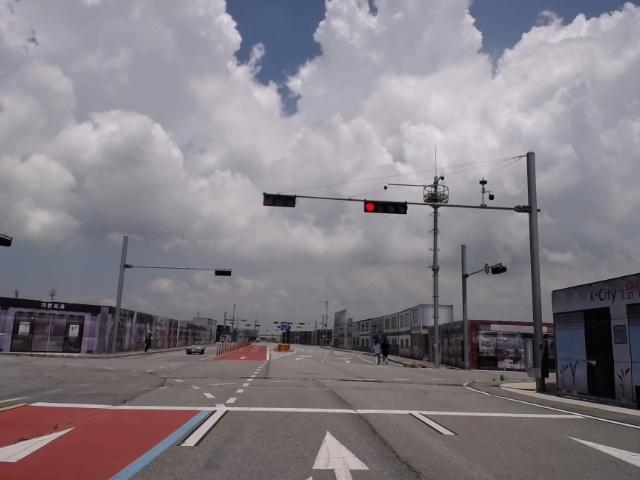red_4: (364, 200, 407, 214)
